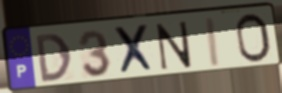3: (76, 28, 113, 79)
D: (33, 31, 74, 84)
I: (203, 15, 222, 69)
N: (154, 19, 193, 72)
O: (234, 12, 273, 65)
X: (111, 22, 158, 77)
